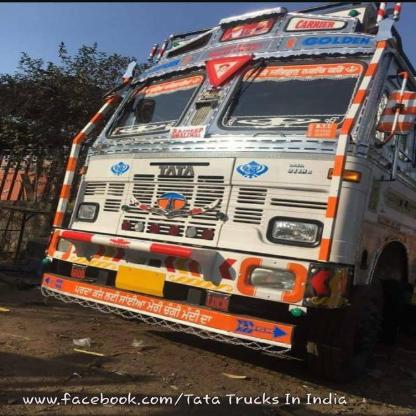truck: (40, 14, 414, 372)
